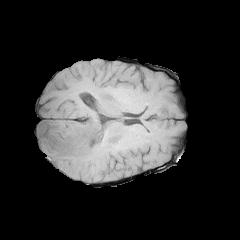glioma: (38, 109, 147, 176)
